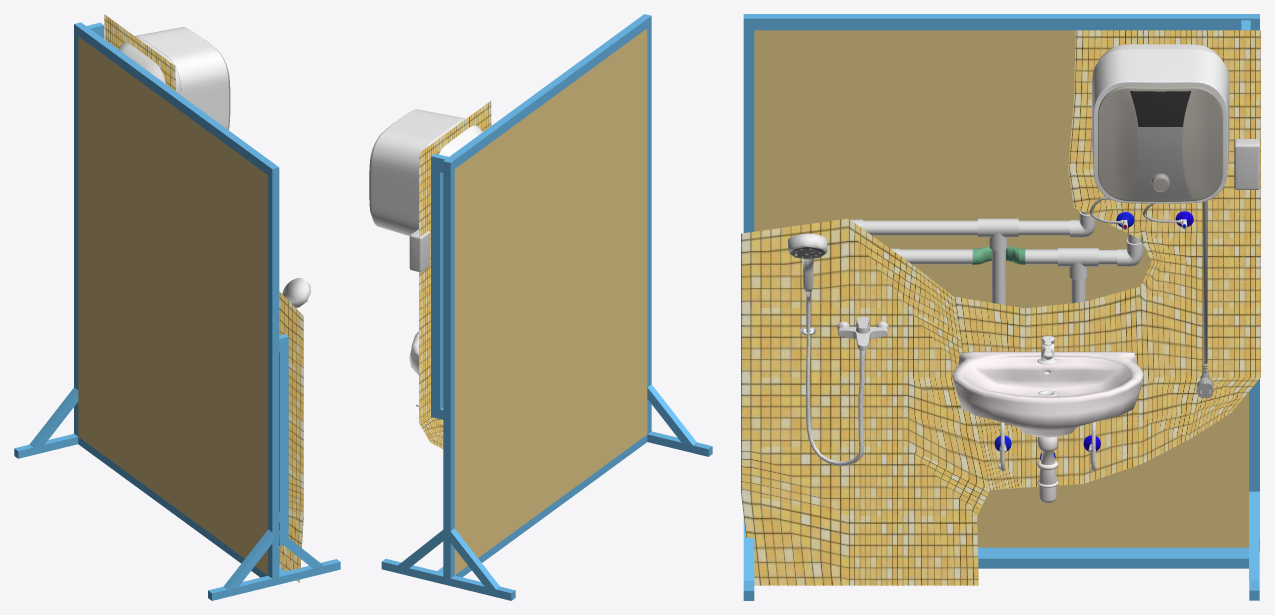
Rendered from mesin9.glb.
3 renders of one model, left to right at view 1: azimuth 30°, elevation 25°; view 2: azimuth 150°, elevation 25°; view 3: azimuth 270°, elevation 25°, orthographic. The views are drawn at different scales.
Parts seen in each view (by area): view 1: Cube.010, Cube, Plane, PANEL, Cube.008, Cube.001, Cube.004, kecil; view 2: Cube.010, Cube, PANEL, Plane, Cube.009, Cube.004, Cube.001, Cube.006; view 3: Plane, Cube.010, PANEL, Cube, BAWAH, kecil, Cylinder.004, Cube.005, Cylinder.011, pipe_t, pipe_t.001, Cube.004 (+4 smaller).
Boxes of the visible parts, x1,y1,x2,y2 form: Cube.010: [78, 36, 267, 575]; Cube: [14, 22, 340, 600]; Plane: [104, 14, 303, 582]; PANEL: [118, 27, 230, 129]; Cube.008: [279, 334, 288, 546]; Cube.001: [223, 529, 323, 589]; Cube.004: [29, 387, 78, 447]; kecil: [282, 278, 310, 307]; Cube.010: [454, 28, 647, 574]; Cube: [381, 14, 712, 600]; PANEL: [369, 109, 482, 235]; Plane: [419, 101, 491, 448]; Cube.009: [431, 153, 448, 419]; Cube.004: [398, 528, 499, 589]; Cube.001: [647, 384, 696, 445]; Cube.006: [418, 231, 430, 272]; Plane: [741, 30, 1260, 585]; Cube.010: [754, 30, 1248, 547]; PANEL: [1089, 44, 1229, 223]; Cube: [743, 14, 1259, 600]; BAWAH: [952, 335, 1143, 503]; kecil: [788, 233, 864, 465]; Cylinder.004: [863, 220, 977, 235]; Cube.005: [1234, 139, 1259, 189]; Cylinder.011: [900, 249, 972, 264]; pipe_t: [978, 218, 1018, 250]; pipe_t.001: [1058, 248, 1098, 279]; Cube.004: [1249, 491, 1259, 580].
Bounding box in the file's own units: 9.69 × 23.12 × 19.61.
Materials: 24 (2 with a texture image).
